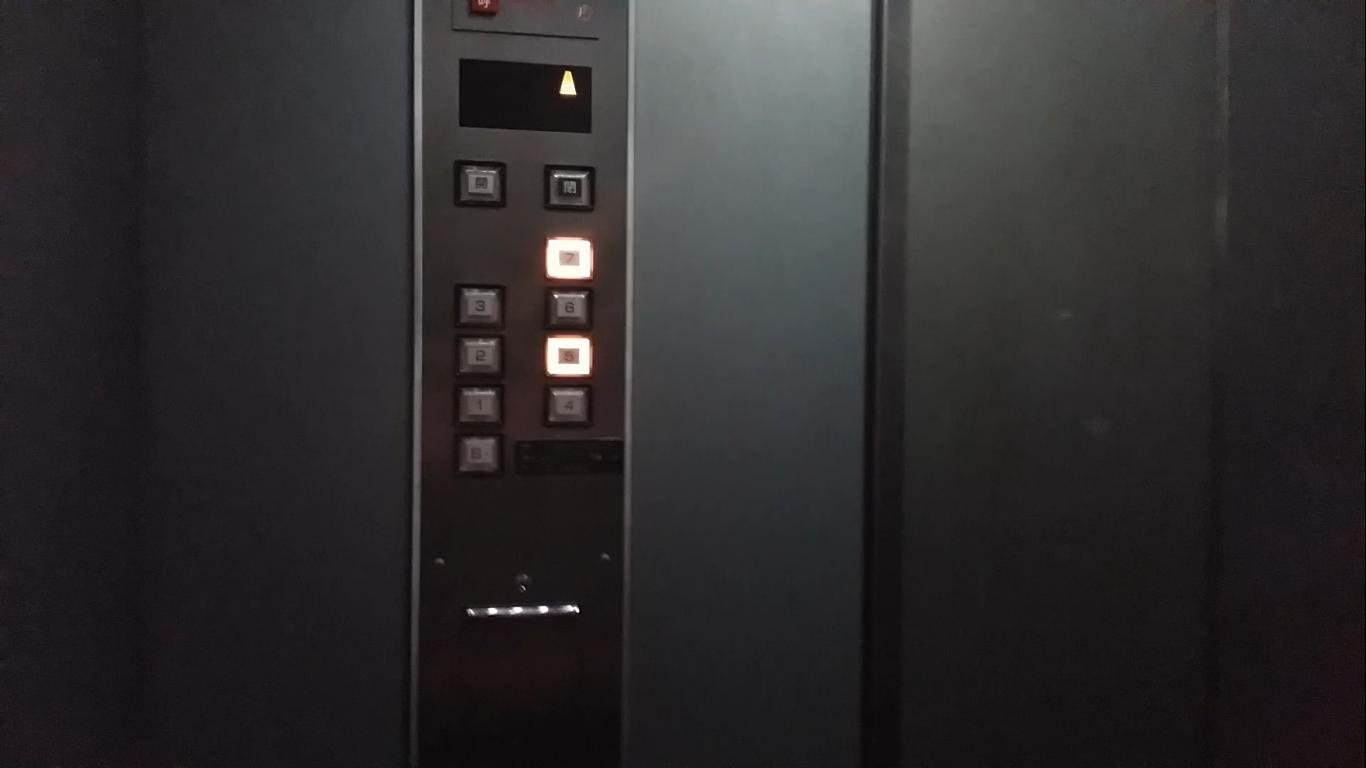1: (450, 378, 506, 430)
2: (450, 329, 506, 381)
3: (451, 277, 507, 329)
4: (540, 380, 596, 432)
5: (540, 329, 596, 381)
6: (540, 281, 596, 333)
7: (540, 232, 596, 284)
B: (450, 427, 506, 479)
led: (454, 50, 597, 138)
text_close: (540, 156, 596, 213)
text_open: (452, 154, 508, 211)
